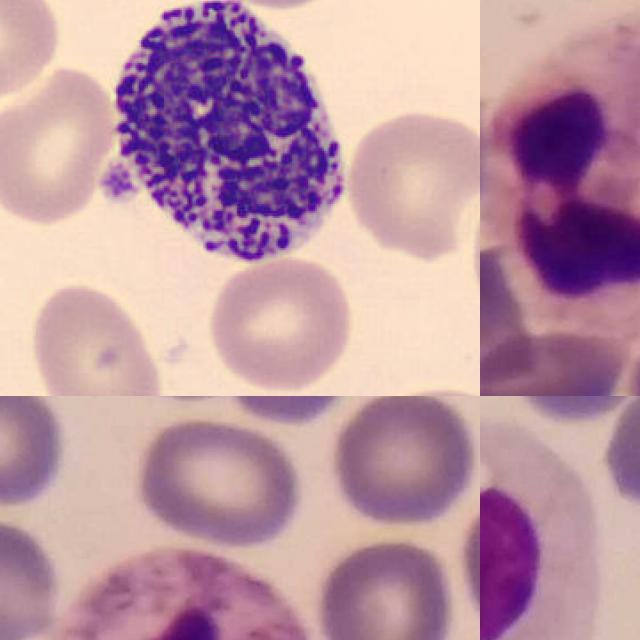Basophil: (82, 0, 361, 277)
Monocyte: (480, 420, 605, 640)
Neutrophil: (480, 20, 640, 343), (31, 546, 318, 640)
RBC: (203, 254, 360, 395), (340, 105, 480, 263), (0, 59, 121, 232), (25, 277, 167, 396), (0, 0, 66, 103)
